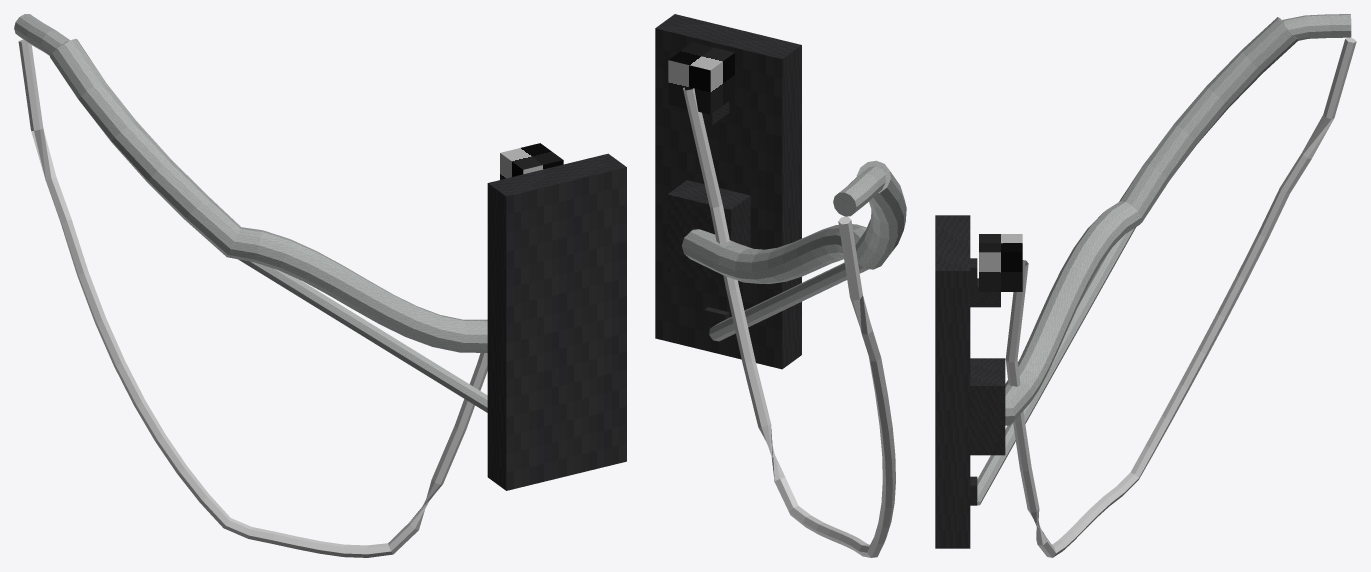
File: arm_1_left_wired.obj
The picture shows the model from 3 angles, left to right: view 1: azimuth 30°, elevation 25°; view 2: azimuth 150°, elevation 25°; view 3: azimuth 270°, elevation 25°; orthographic projection. The views are drawn at different scales.
Visible parts, largest first — view 1: pole_light_mount_1_left_wired; view 2: pole_light_mount_1_left_wired; view 3: pole_light_mount_1_left_wired.
Part boxes in pixels (left/top/right/bottom): pole_light_mount_1_left_wired: left=14, top=14, right=626, bottom=557; pole_light_mount_1_left_wired: left=655, top=14, right=906, bottom=557; pole_light_mount_1_left_wired: left=935, top=14, right=1356, bottom=557.
Bounding box in the file's own units: 1.22 × 1.41 × 1.2.
